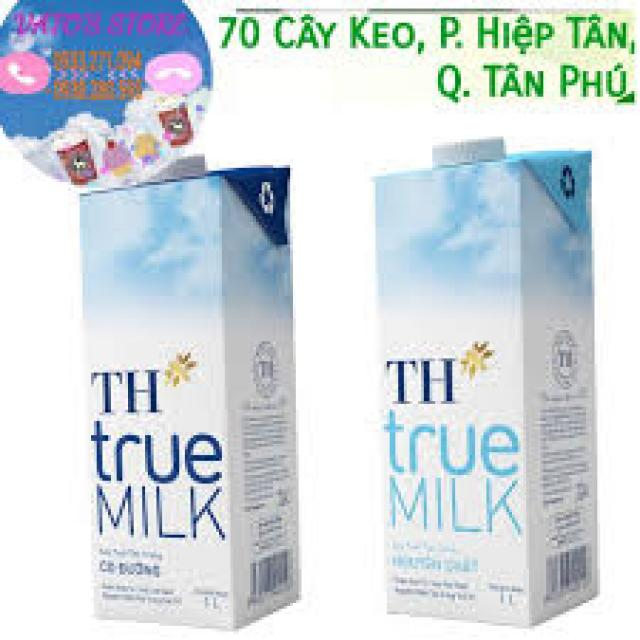non_white_jug: (351, 110, 602, 636), (50, 145, 314, 634)
